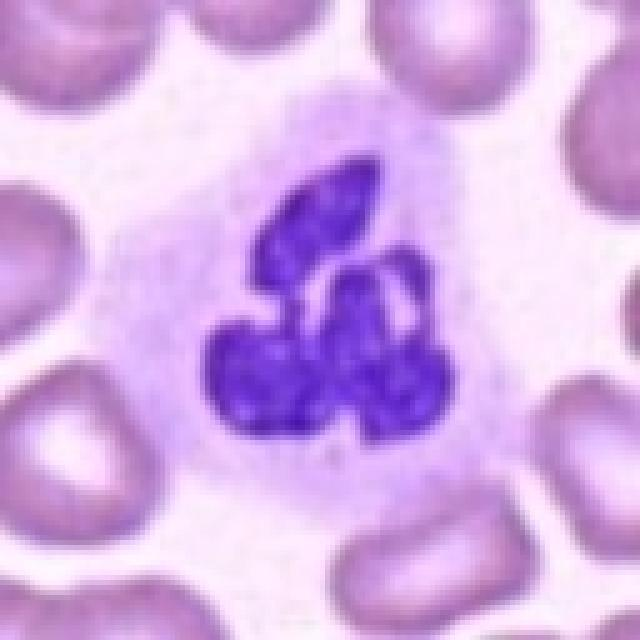neutro: (142, 90, 588, 515)
